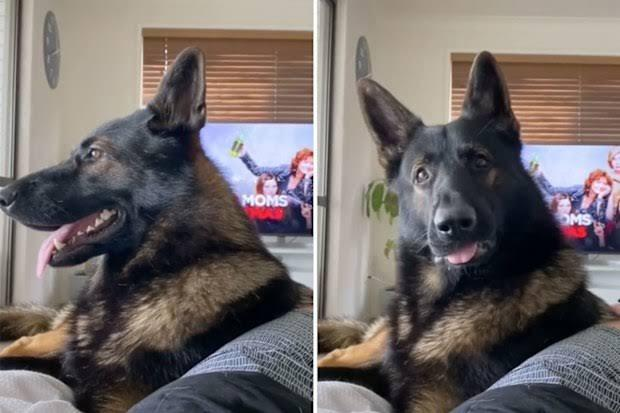adult_dog: (0, 46, 306, 407), (317, 51, 606, 413)
